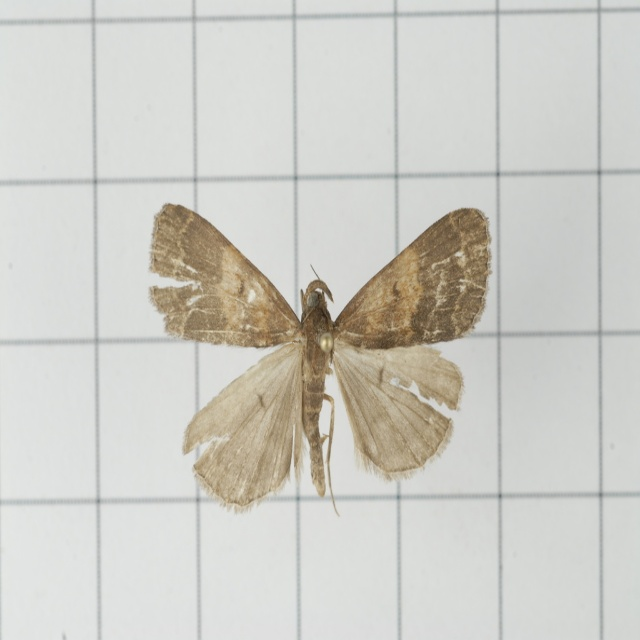Butterfly: (140, 199, 472, 545)
